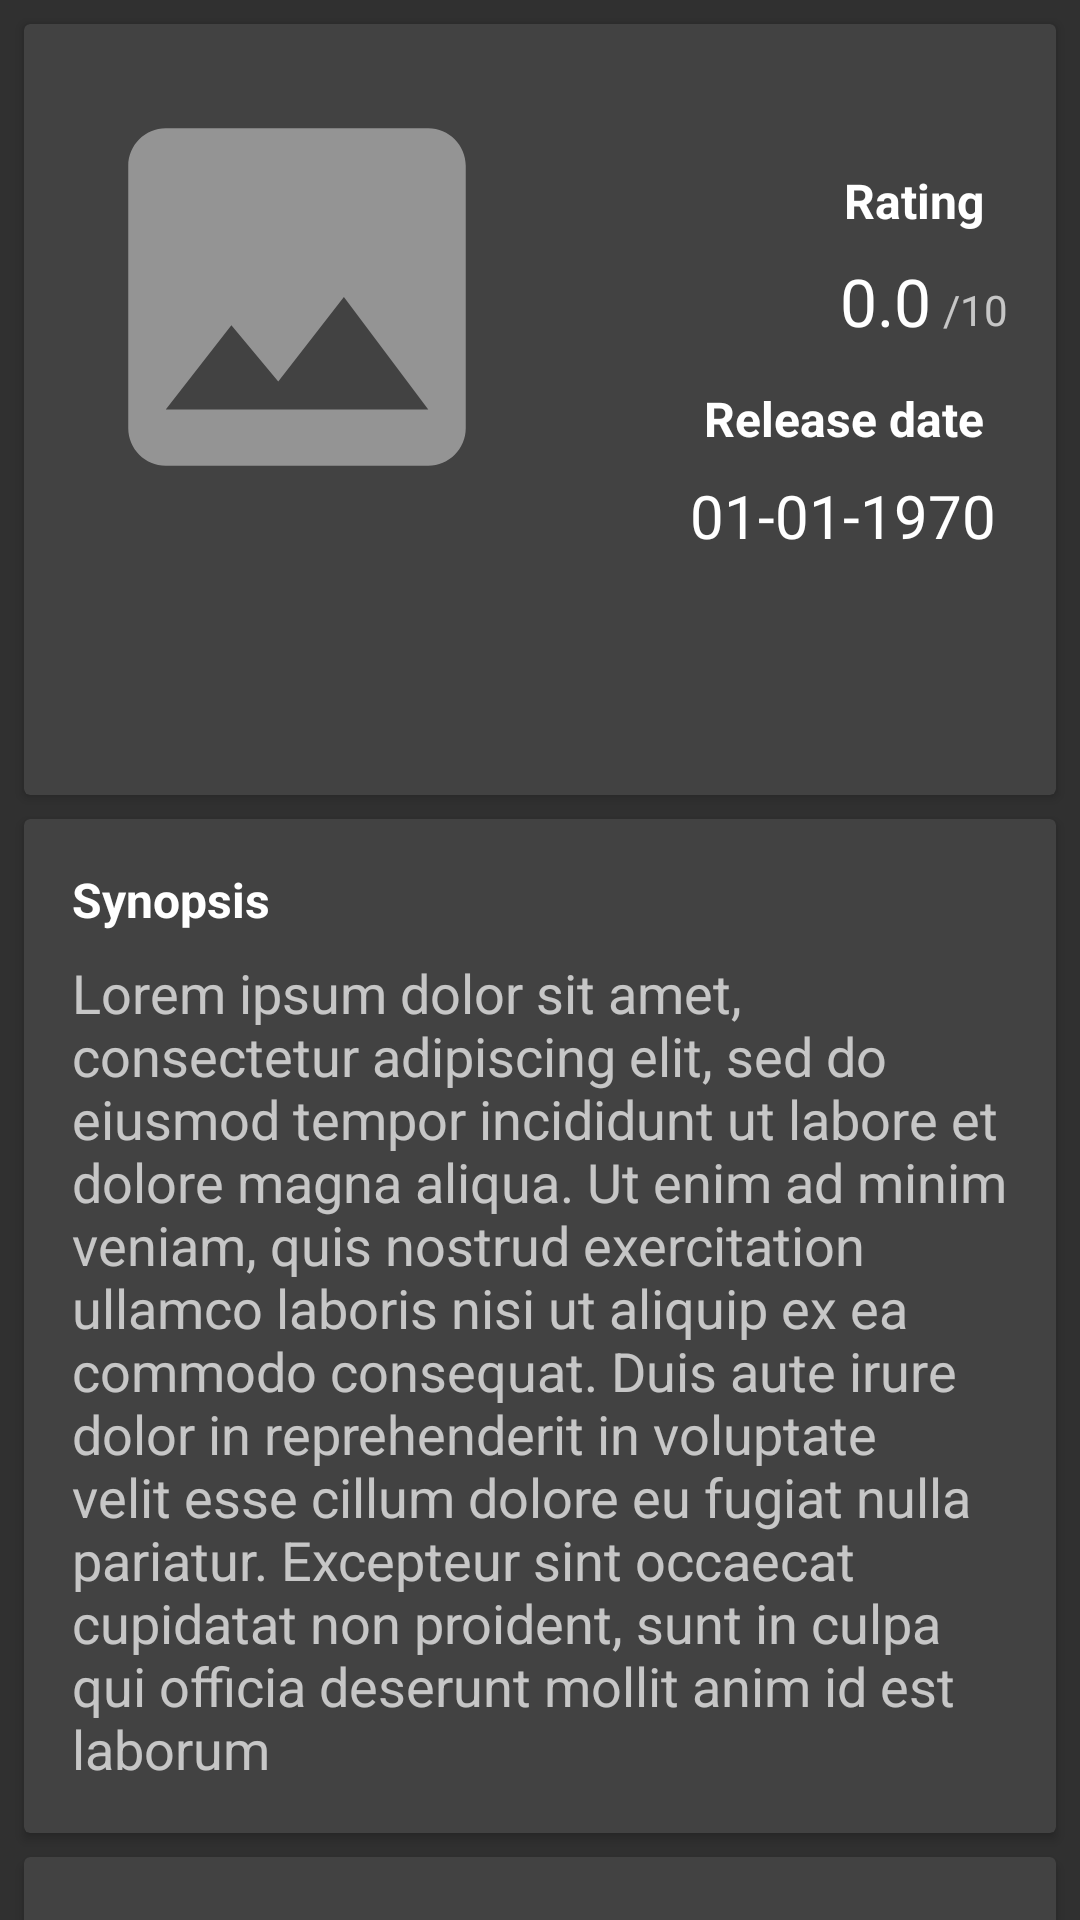

Screen size 1080 x 1920. Icon name, then its center in pixels as point (x, y):
photo: point (297, 297)
